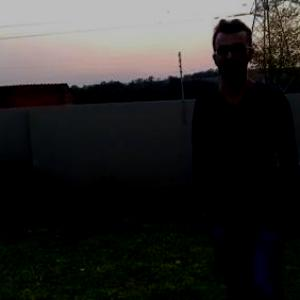follow: (199, 33, 288, 299)
